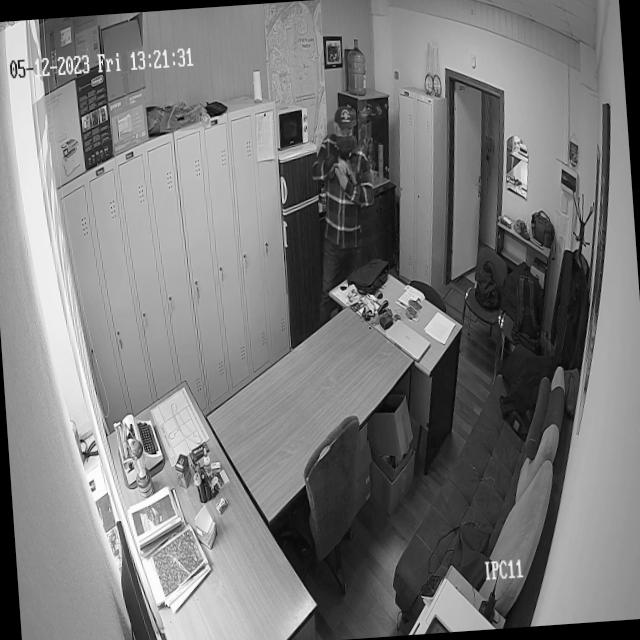gun: (347, 152, 358, 186)
person with a gun: (313, 94, 383, 265)
